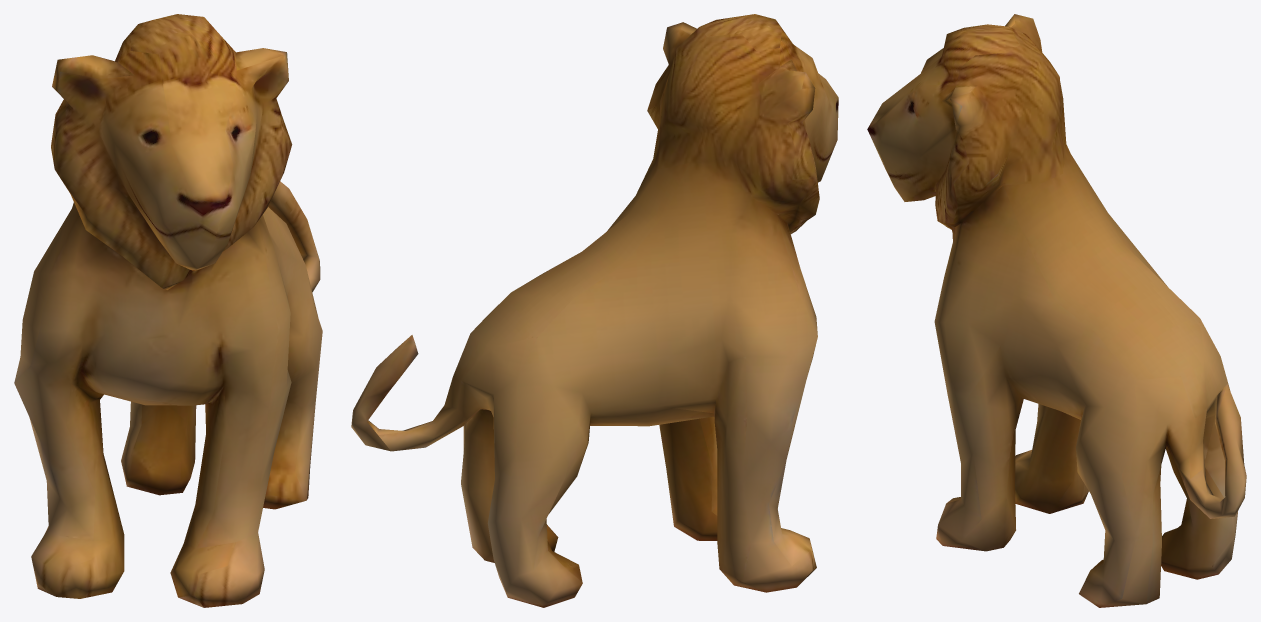
File: mob_asiatic_lion.glb
The picture shows the model from 3 angles, left to right: view 1: azimuth 30°, elevation 25°; view 2: azimuth 150°, elevation 25°; view 3: azimuth 270°, elevation 25°; orthographic projection. The views are drawn at different scales.
Parts seen in each view (by area): view 1: geometry_0; view 2: geometry_0; view 3: geometry_0.
Part boxes in pixels (left/top/right/bottom): geometry_0: left=14, top=14, right=322, bottom=607; geometry_0: left=351, top=14, right=838, bottom=607; geometry_0: left=867, top=14, right=1246, bottom=607.
Bounding box in the file's own units: 1.12 × 1.53 × 1.07.
1 material, 1 textured.
